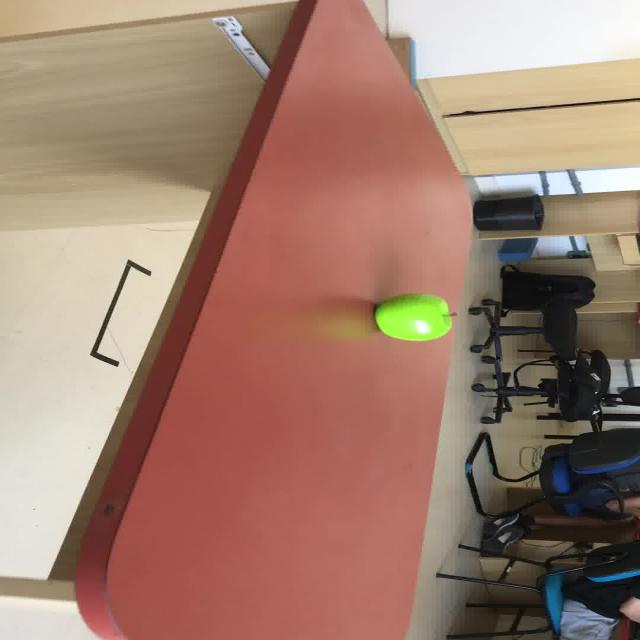apple: (372, 292, 453, 341)
